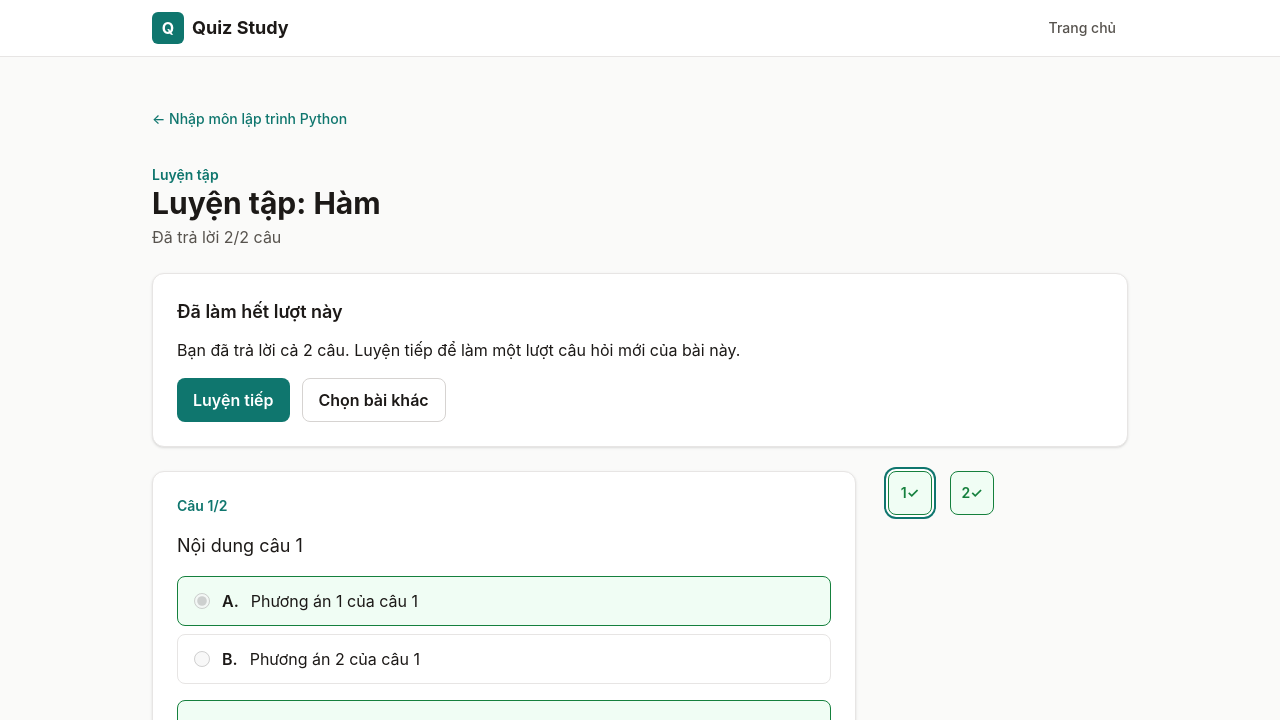
Test: AttemptPage – luyện tập › offers another round when every question has been answered, without any score
Expected: the element "Đã làm hết lượt này" does not show "điểm", x1=152 y1=273 x2=1128 y2=447
What coordinates should you click on to do the following:
click the button "Luyện tiếp"
I would click on:
 (233, 400)
Its box is x1=177 y1=378 x2=290 y2=422.
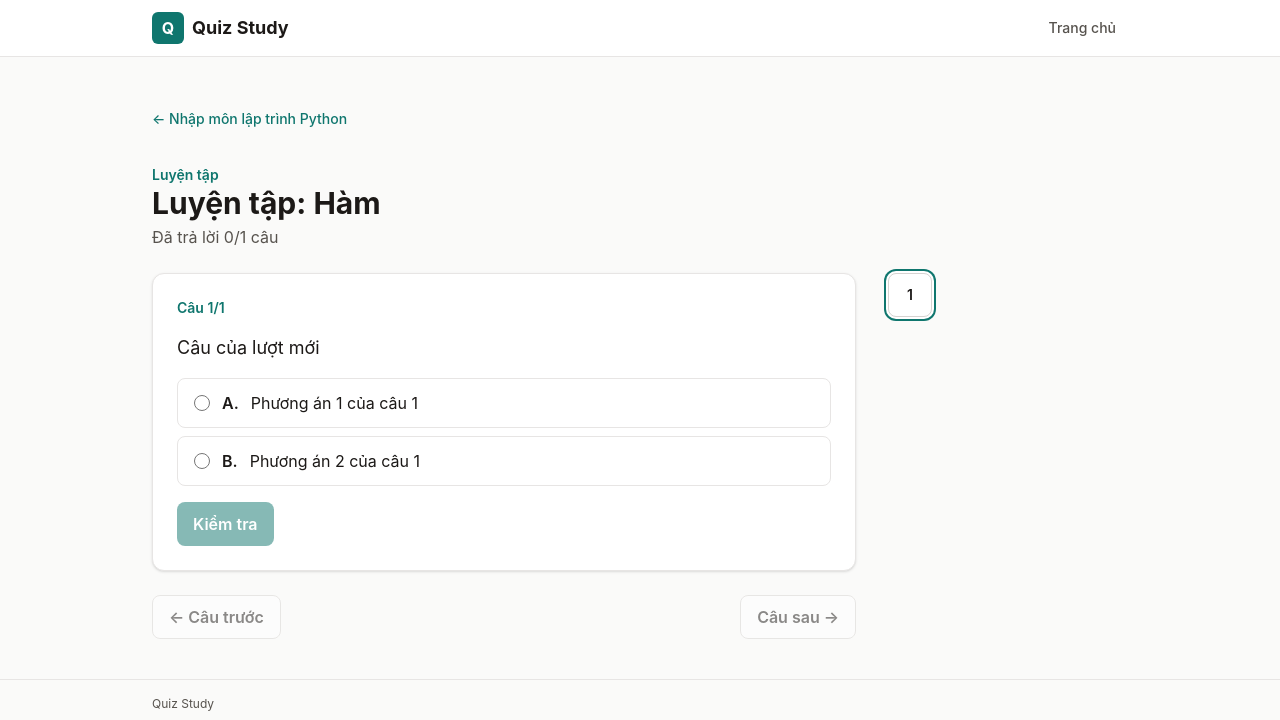
Now the text "Câu của lượt mới" is shown, box x1=177 y1=337 x2=320 y2=358
